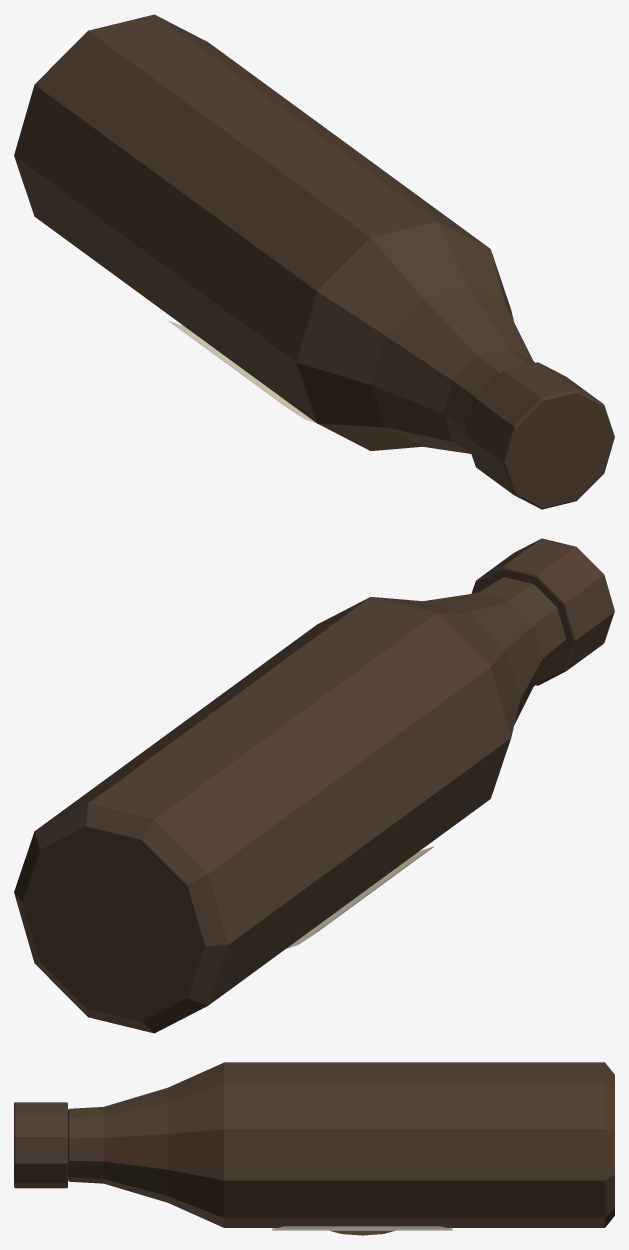
File: molasses.glb
The picture shows the model from 3 angles, top to bottom: view 1: azimuth 30°, elevation 25°; view 2: azimuth 150°, elevation 25°; view 3: azimuth 270°, elevation 25°; orthographic projection. The views are drawn at different scales.
Visible parts, largest first — view 1: molasses; view 2: molasses; view 3: molasses.
Boxes of the visible parts, left/top/right/bottom form: molasses: left=14, top=14, right=614, bottom=509; molasses: left=14, top=538, right=614, bottom=1033; molasses: left=14, top=1062, right=614, bottom=1235.
Bounding box in the file's own units: 0.05 × 0.0506 × 0.18.
